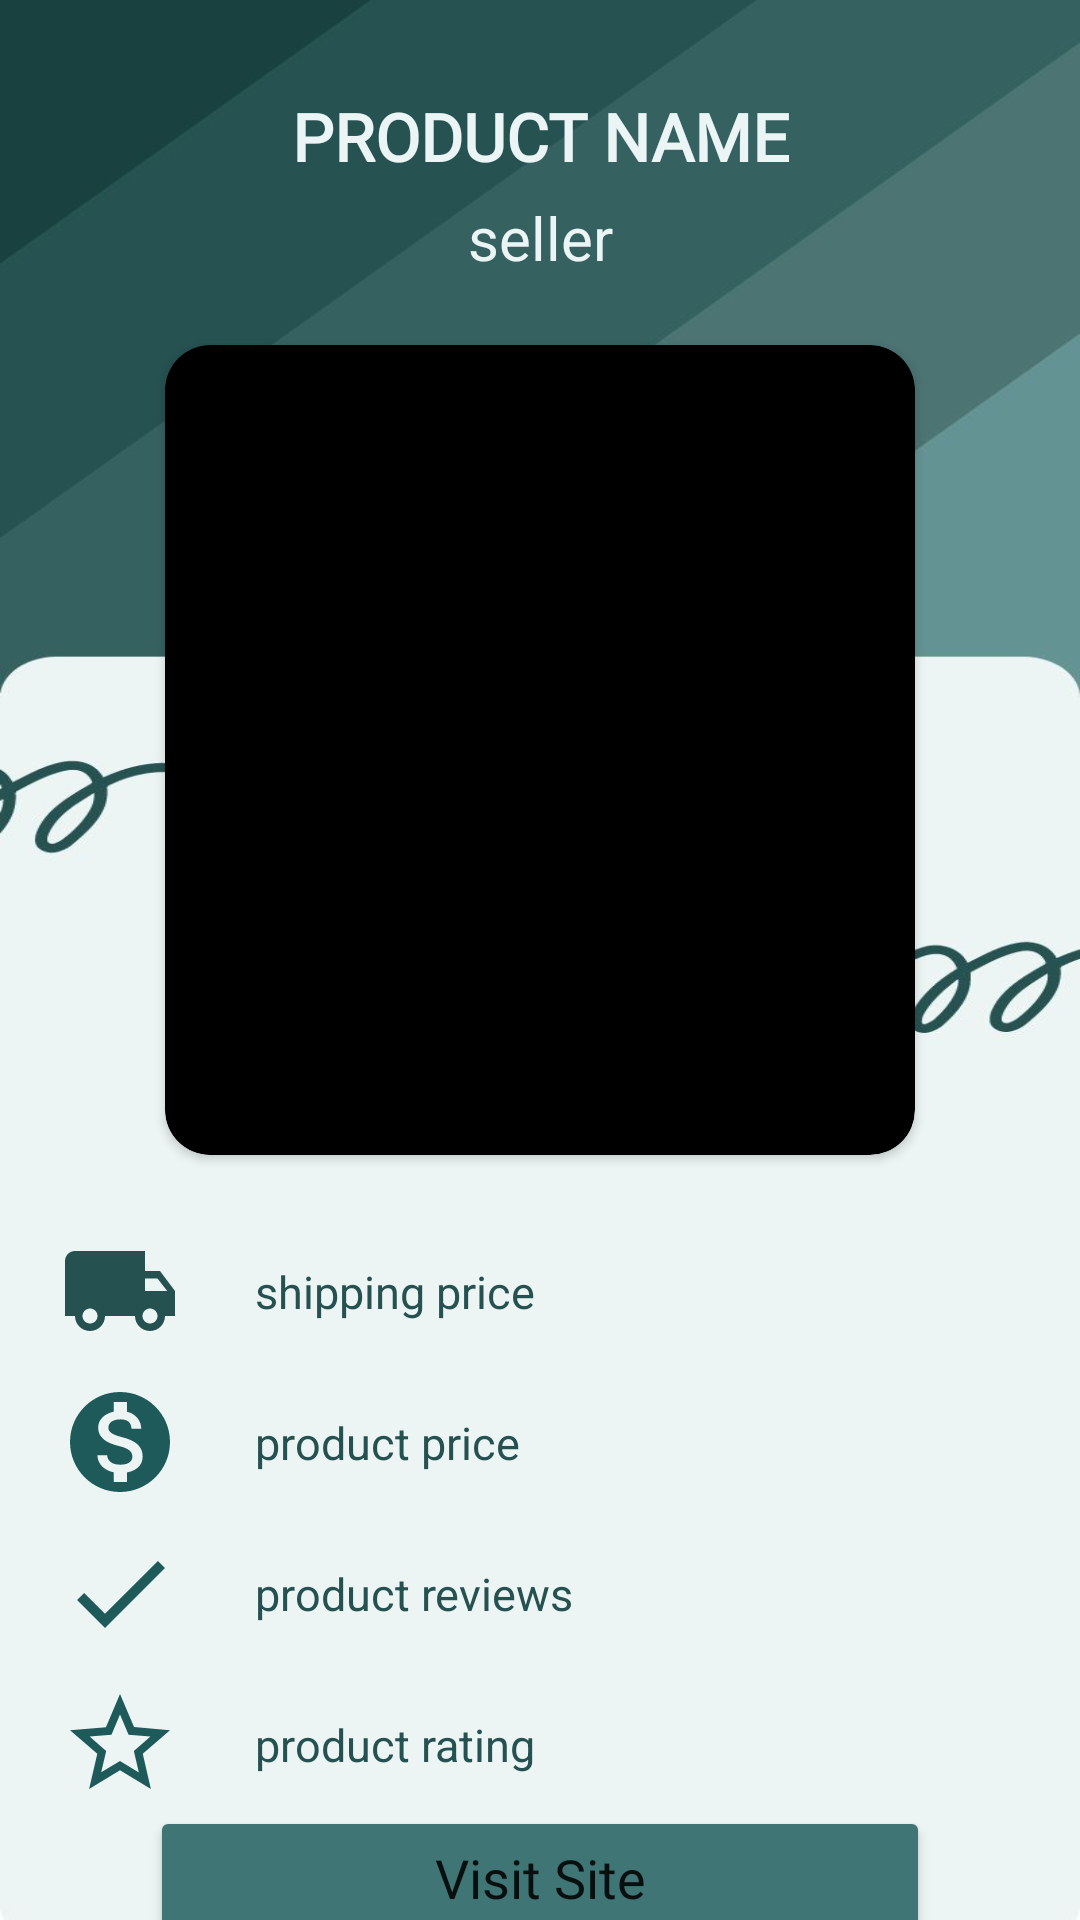

Point at icon controls on the screen. Image size 1080w x 1920h, points as [x,y].
check: [121,1594]
local shipping: [120,1291]
monetization on: [120,1442]
star border: [120,1741]
